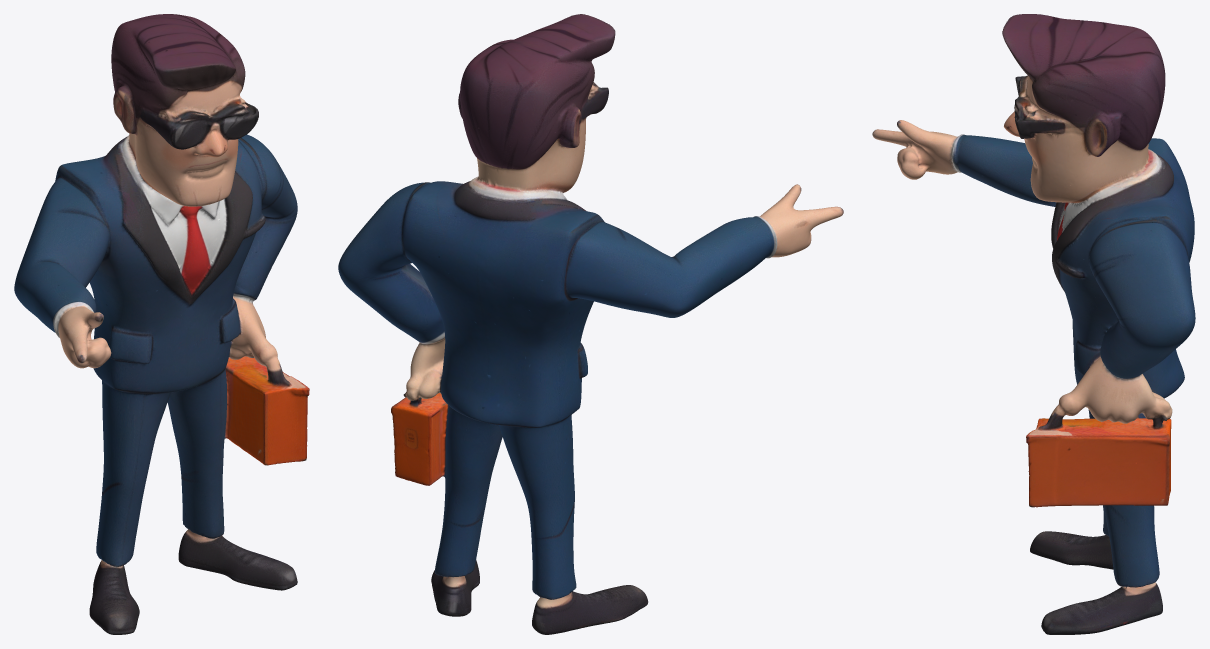
File: empresario.glb
3 views of the same model, side by side, from view 1: azimuth 30°, elevation 25°; view 2: azimuth 150°, elevation 25°; view 3: azimuth 270°, elevation 25° (orthographic). The views are drawn at different scales.
Size of the model in its own units: 1.32 by 2 by 1.05.
1 material, 1 textured.
